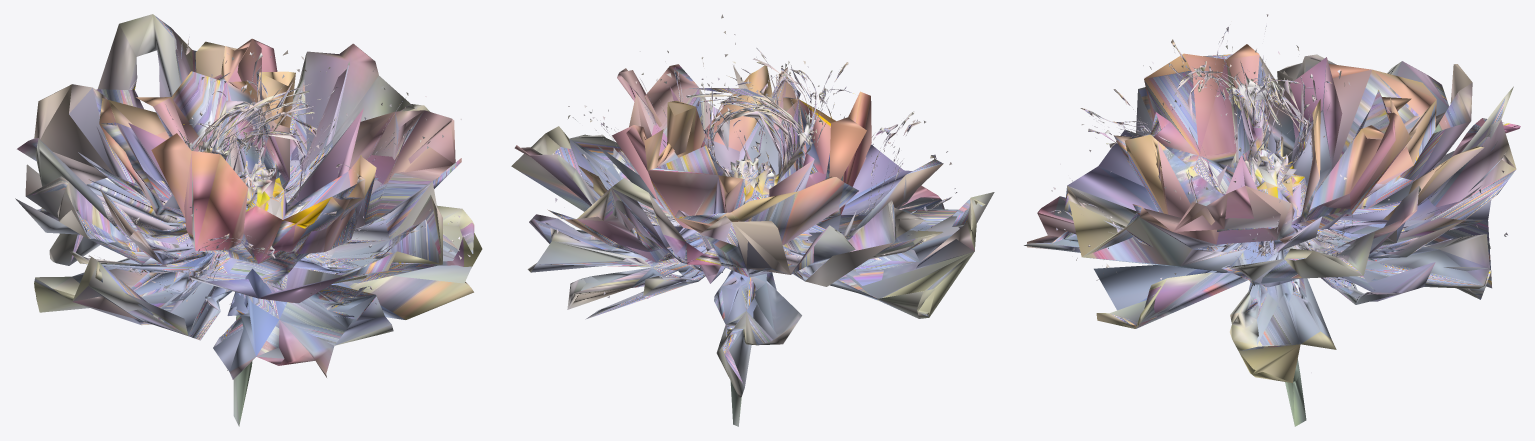
Rendered from Luminous_Paper_Flower.glb.
The picture shows the model from 3 angles, left to right: view 1: azimuth 30°, elevation 25°; view 2: azimuth 150°, elevation 25°; view 3: azimuth 270°, elevation 25°; orthographic projection. The views are drawn at different scales.
Visible parts, largest first — view 1: Luminous_Paper_Flower; view 2: Luminous_Paper_Flower; view 3: Luminous_Paper_Flower.
Part boxes in pixels (x1,y1,x2,y2): Luminous_Paper_Flower: [15, 14, 482, 426]; Luminous_Paper_Flower: [511, 14, 994, 426]; Luminous_Paper_Flower: [1024, 14, 1520, 426].
Size of the model in its own units: 1.82 by 1.62 by 1.87.
1 material, 1 textured.
